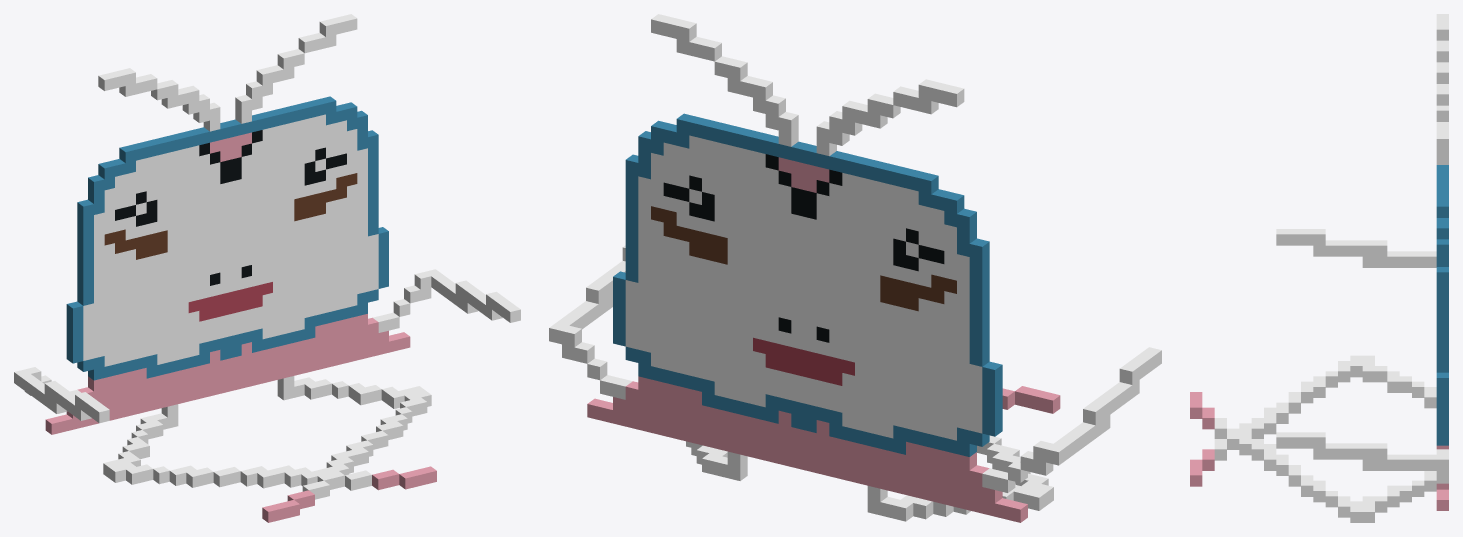
The model's file is stage2.obj.
The picture shows the model from 3 angles, left to right: view 1: azimuth 30°, elevation 25°; view 2: azimuth 150°, elevation 25°; view 3: azimuth 270°, elevation 25°; orthographic projection. The views are drawn at different scales.
Bounding box in the file's own units: 40 × 33 × 21.
1 material, 1 textured.
